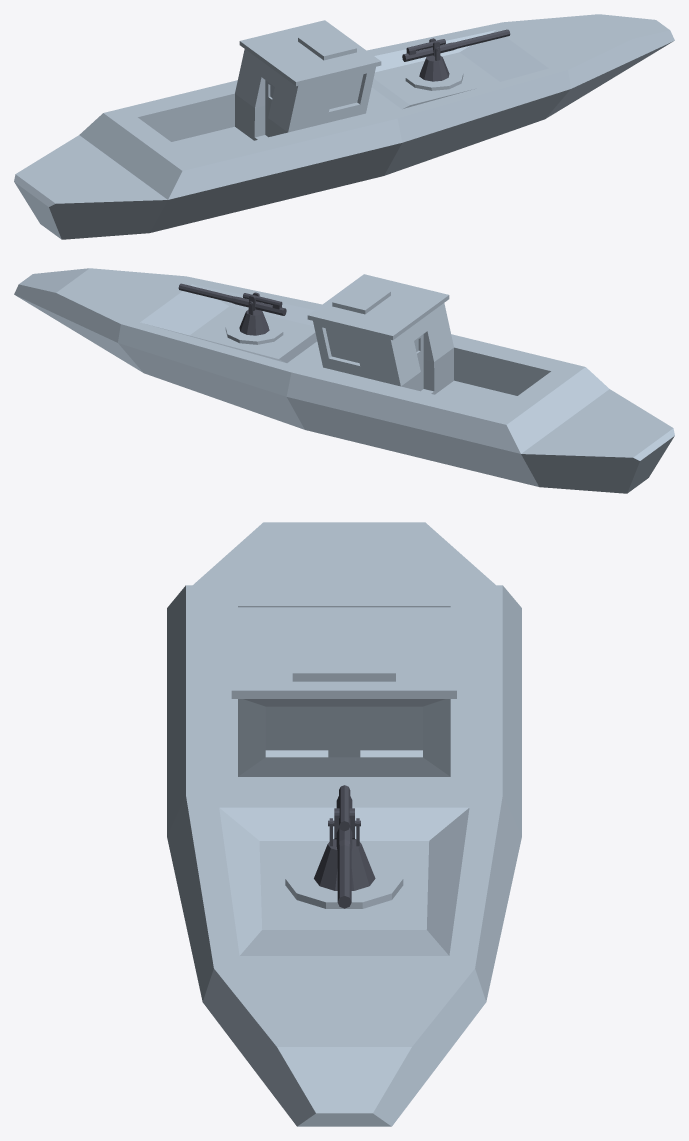
The model's file is 炮艇-侦查者.fbx.
The picture shows the model from 3 angles, top to bottom: view 1: azimuth 30°, elevation 25°; view 2: azimuth 150°, elevation 25°; view 3: azimuth 270°, elevation 25°; orthographic projection. The views are drawn at different scales.
Visible parts, largest first — view 1: 船体, 主炮-小艇用; view 2: 船体, 主炮-小艇用; view 3: 船体, 主炮-小艇用.
Boxes of the visible parts, x1,y1,x2,y2 form: 船体: (14,14,674,239); 主炮-小艇用: (402,29,510,81); 船体: (14,268,674,493); 主炮-小艇用: (178,283,286,335); 船体: (167,522,521,1126); 主炮-小艇用: (314,785,375,908).
Bounding box in the file's own units: 965 × 195 × 235.
